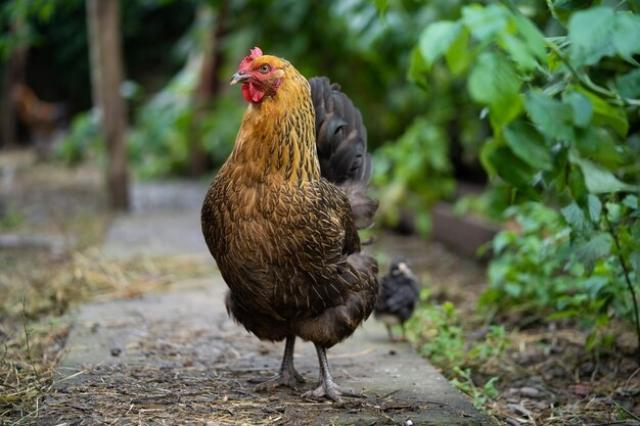Chicken: (201, 48, 379, 404)
